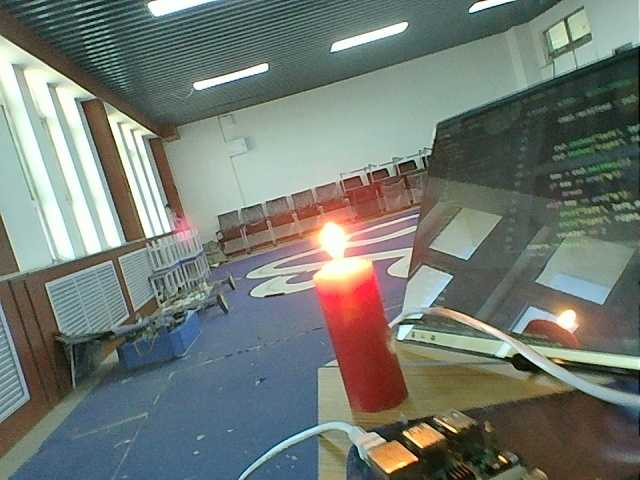candle: (307, 271, 416, 417)
fire: (312, 216, 360, 267)
